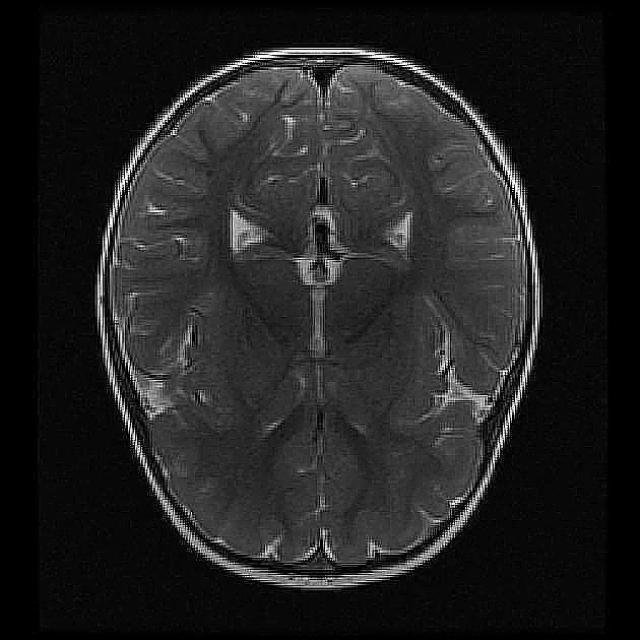notumor: (97, 49, 540, 586)
